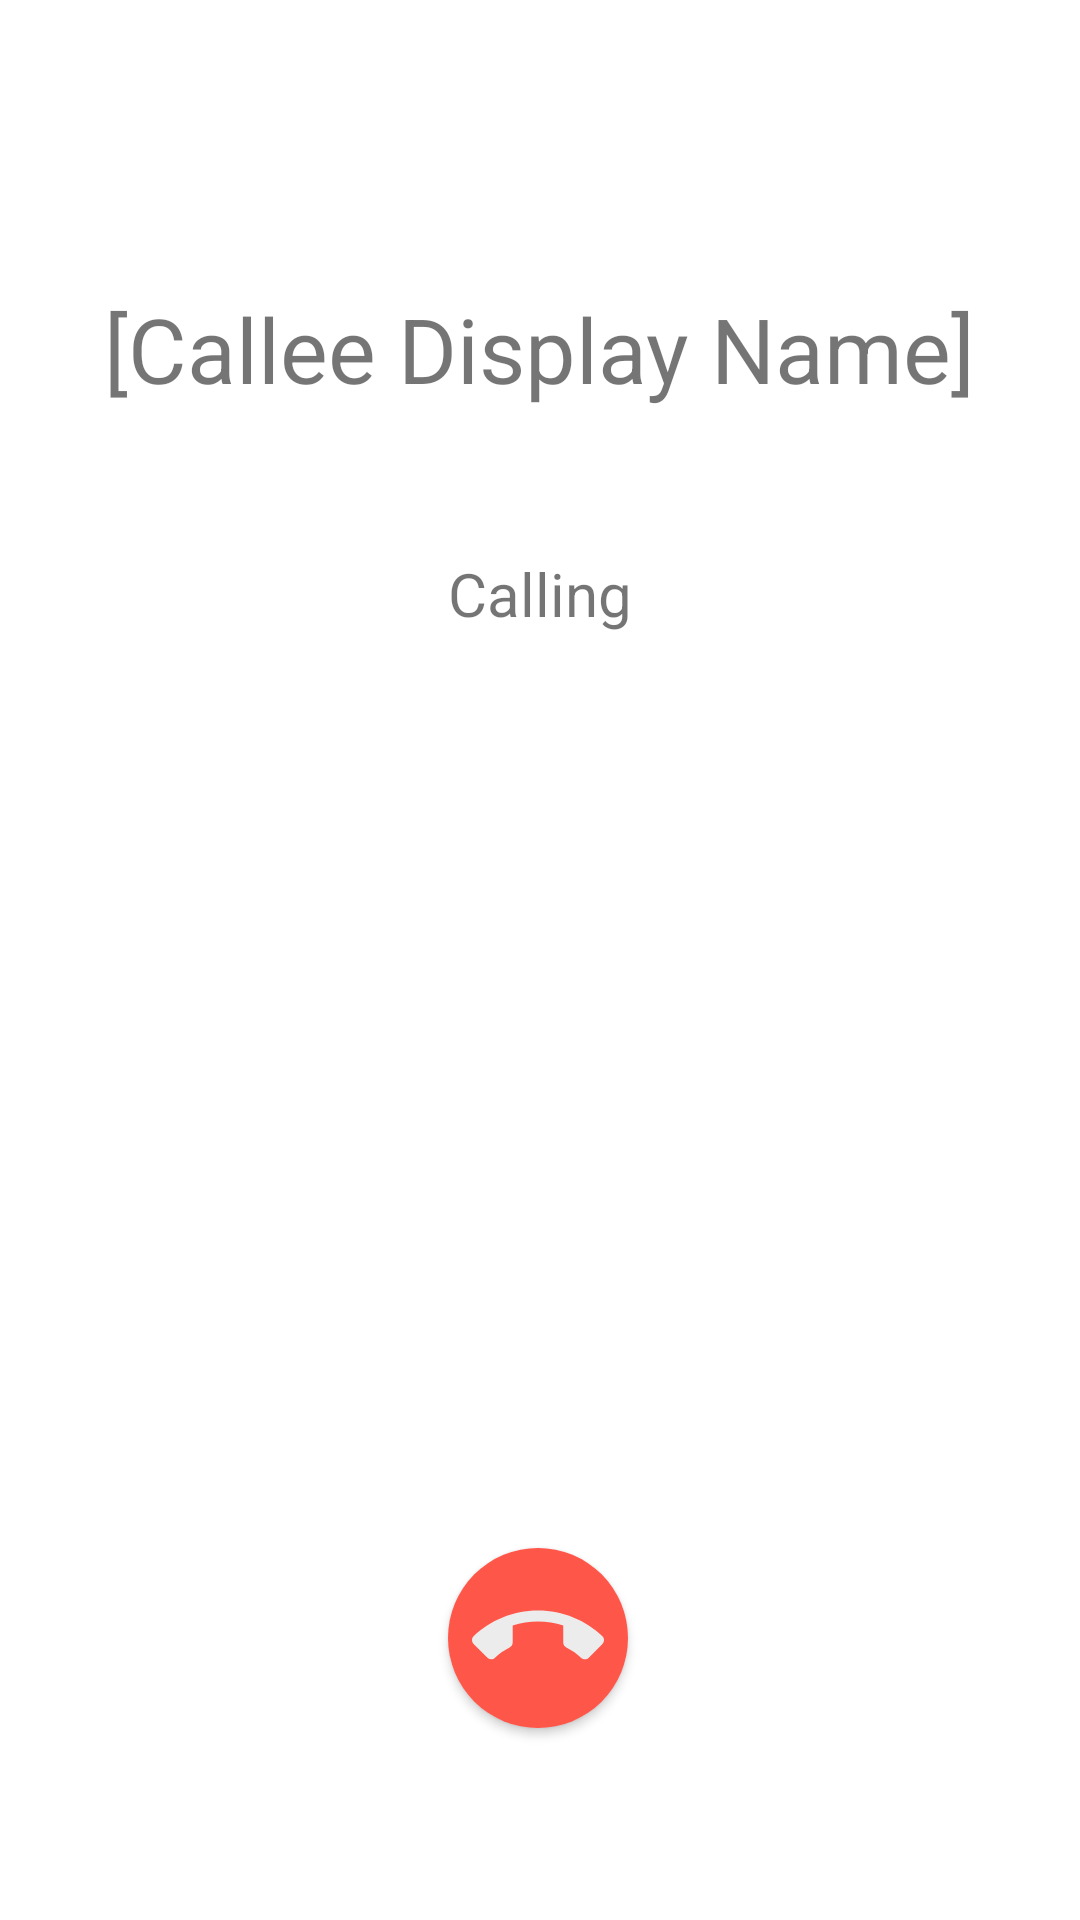

Where to tap for icons on this 1080x1920 app screen, as point (x, y):
decline call: point (538, 1638)
